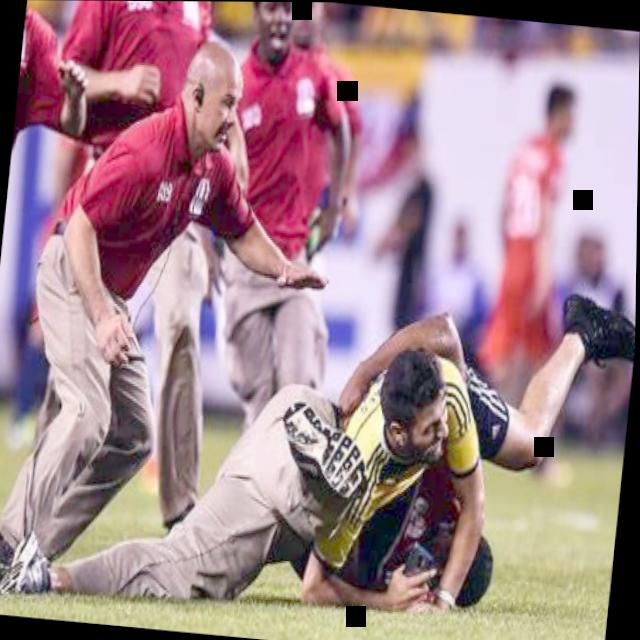Fall-Detected: (8, 342, 395, 623)
